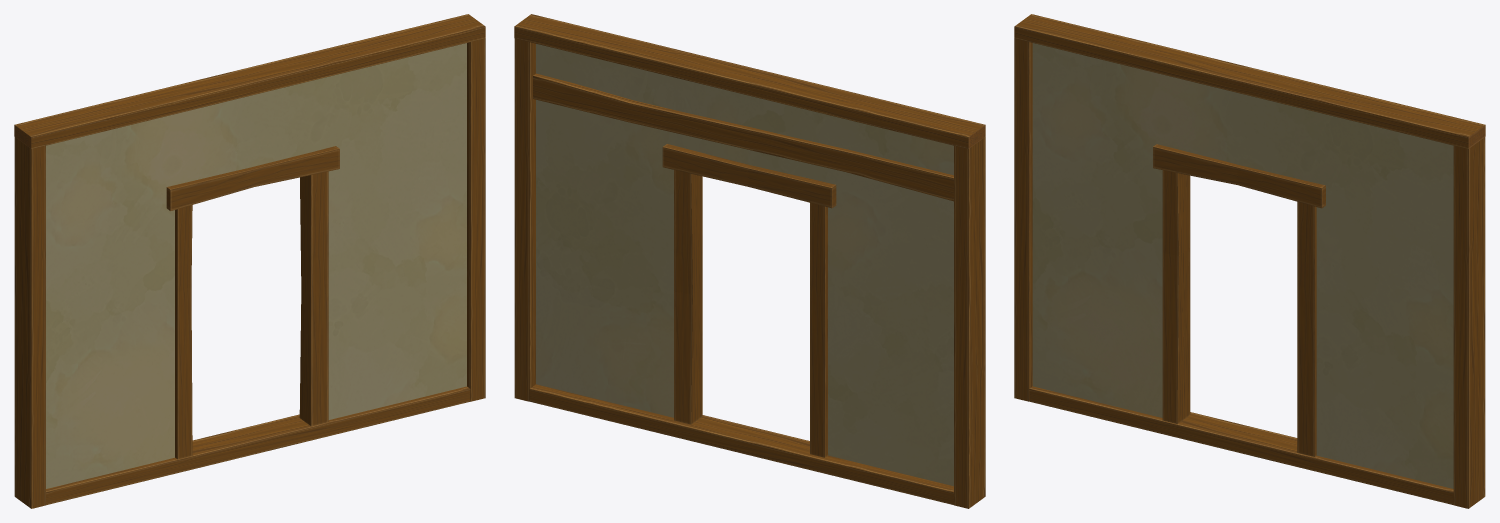
Rendered from SM_House_Wall_5x4_Interior_Door_B_01.fbx.
3 views of the same model, side by side, from view 1: azimuth 30°, elevation 25°; view 2: azimuth 150°, elevation 25°; view 3: azimuth 330°, elevation 25° (orthographic).
Parts seen in each view (by area): view 1: SM_House_Wall_5x4_Interior_Door_B_01; view 2: SM_House_Wall_5x4_Interior_Door_B_01; view 3: SM_House_Wall_5x4_Interior_Door_B_01.
Part boxes in pixels (<box>): SM_House_Wall_5x4_Interior_Door_B_01: <box>14,14,485,508</box>; SM_House_Wall_5x4_Interior_Door_B_01: <box>514,14,985,508</box>; SM_House_Wall_5x4_Interior_Door_B_01: <box>1014,14,1485,508</box>.
Bounding box in the file's own units: 5 × 3.91 × 0.3318.
